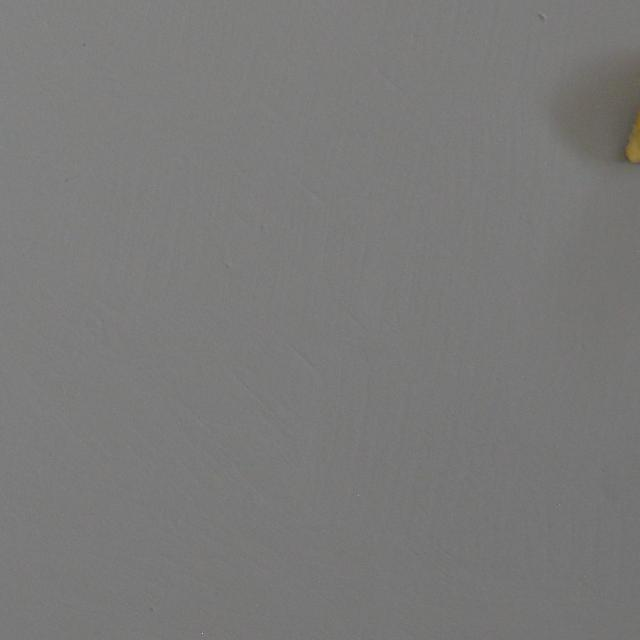entero: (620, 50, 640, 171)
